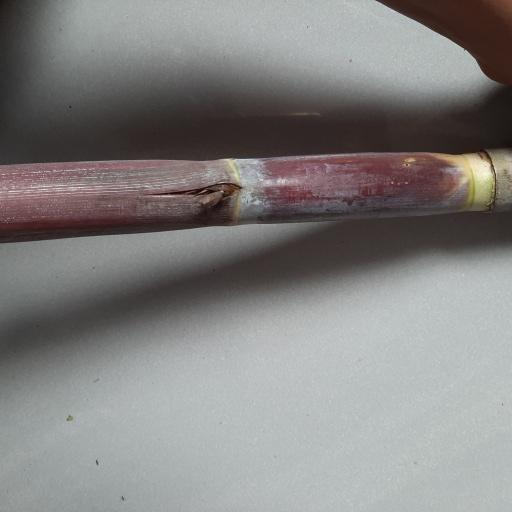Damage_Bud: (156, 179, 242, 210)
